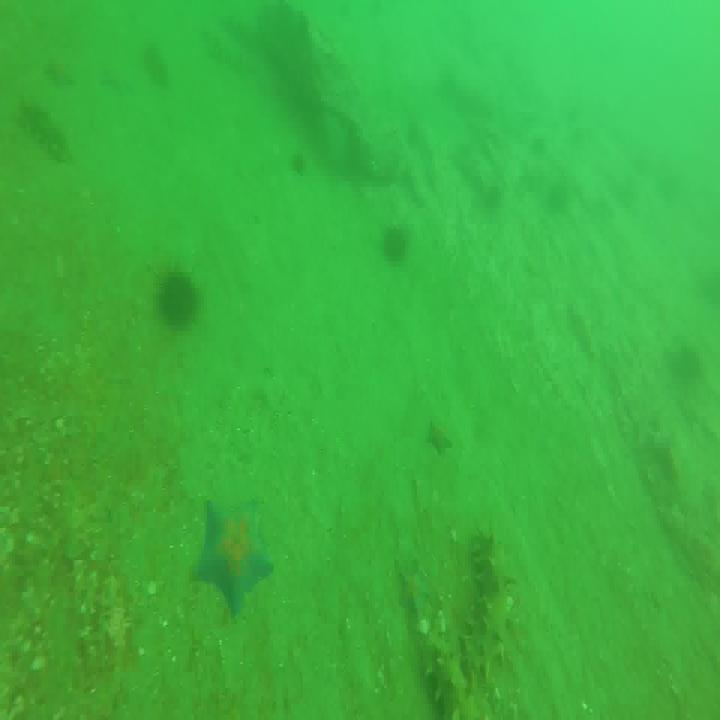echinus: (156, 266, 202, 331), (382, 220, 410, 269), (289, 146, 311, 179)
holothurian: (460, 536, 512, 679), (15, 95, 73, 166), (426, 642, 469, 720)
starfish: (190, 498, 274, 618), (424, 415, 455, 459)
